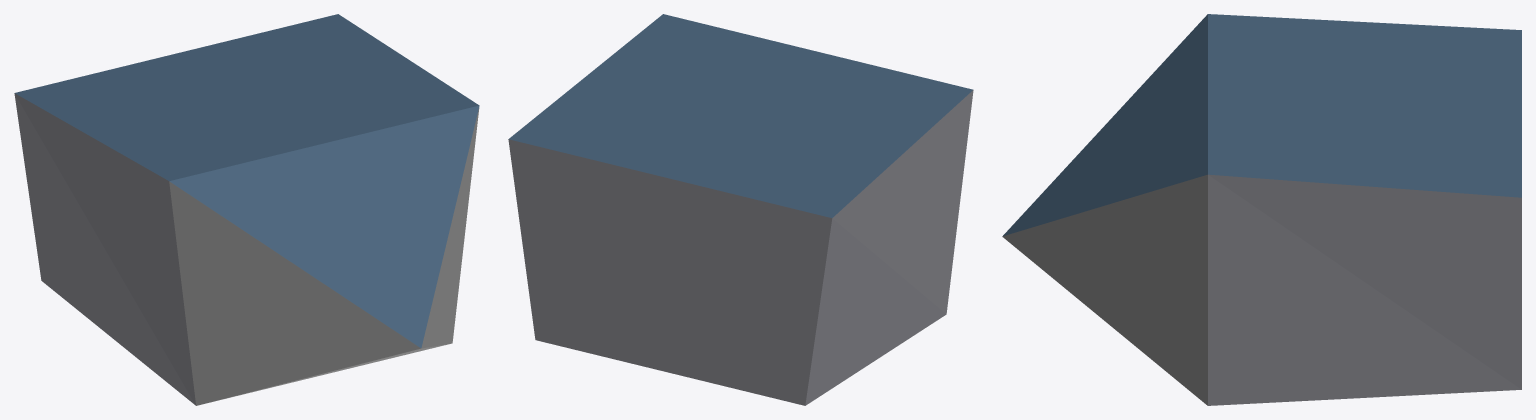
Rendered from cockpit_anvil.obj.
3 renders of one model, left to right at view 1: azimuth 30°, elevation 25°; view 2: azimuth 150°, elevation 25°; view 3: azimuth 270°, elevation 25°, orthographic. The views are drawn at different scales.
Visible parts, largest first — view 1: cockpit_anvil; view 2: cockpit_anvil; view 3: cockpit_anvil.
Part boxes in pixels (x1,y1,x2,y2): cockpit_anvil: (14,14,479,405); cockpit_anvil: (508,14,973,405); cockpit_anvil: (1002,14,1521,405).
Bounding box in the file's own units: 1.39 × 0.95 × 1.82.
